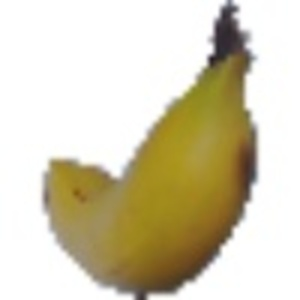banana: (22, 25, 267, 289)
